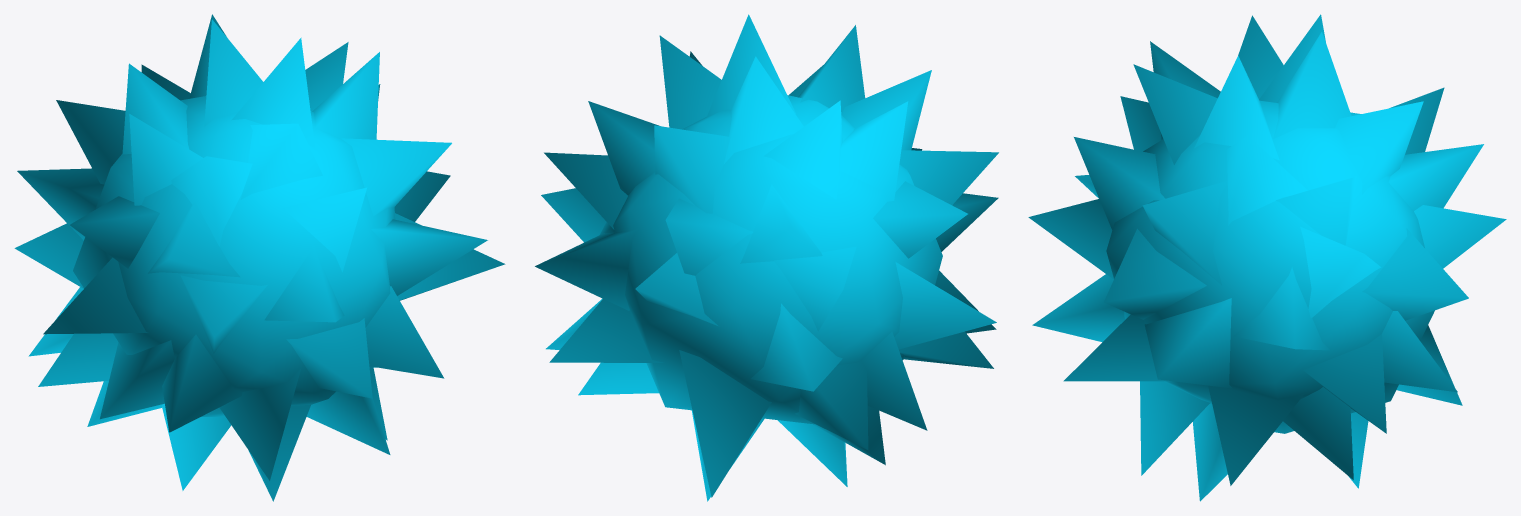
File: Bullet_Neut.fbx
3 renders of one model, left to right at view 1: azimuth 30°, elevation 25°; view 2: azimuth 150°, elevation 25°; view 3: azimuth 270°, elevation 25°, orthographic.
Visible parts, largest first — view 1: 円錐.010; view 2: 円錐.010; view 3: 円錐.010.
Part boxes in pixels (x1,y1,x2,y2): 円錐.010: (14, 14, 505, 501); 円錐.010: (535, 14, 998, 501); 円錐.010: (1028, 14, 1506, 501).
Size of the model in its own units: 0.9689 by 0.9376 by 0.9184.
